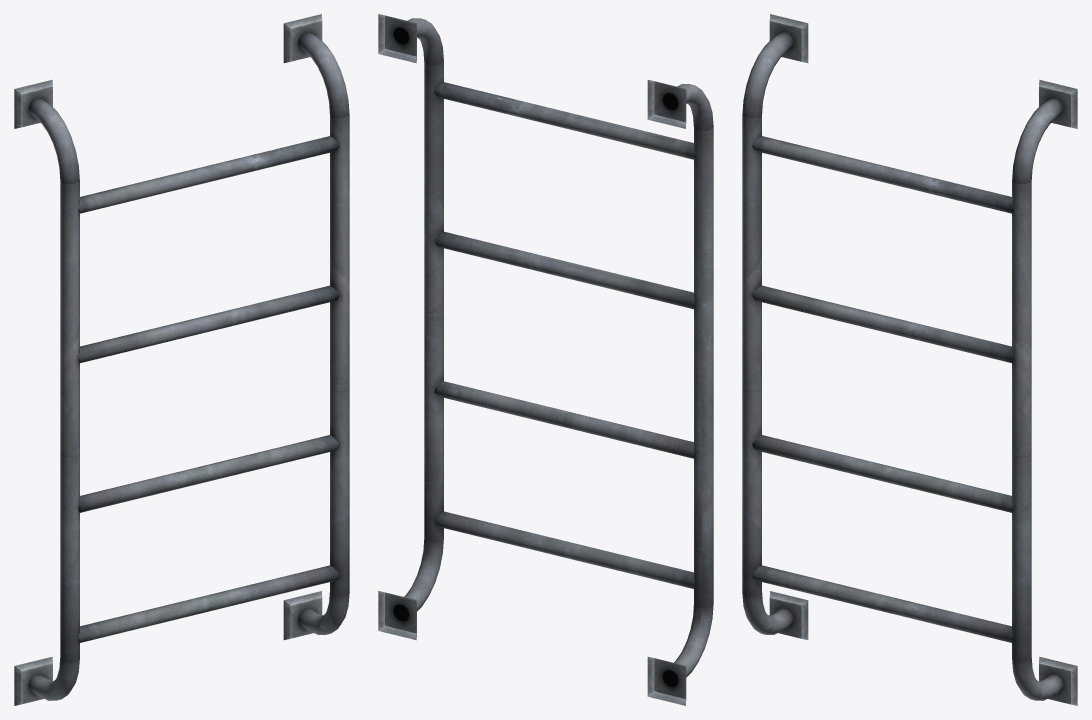
The model's file is racks_large.dae.
3 renders of one model, left to right at view 1: azimuth 30°, elevation 25°; view 2: azimuth 150°, elevation 25°; view 3: azimuth 330°, elevation 25°, orthographic.
Visible parts, largest first — view 1: Mesh; view 2: Mesh; view 3: Mesh.
Part boxes in pixels (x1,y1,x2,y2): Mesh: [14, 14, 349, 705]; Mesh: [378, 14, 713, 705]; Mesh: [742, 14, 1077, 705].
Bounding box in the file's own units: 1.14 × 2.19 × 0.2673.
